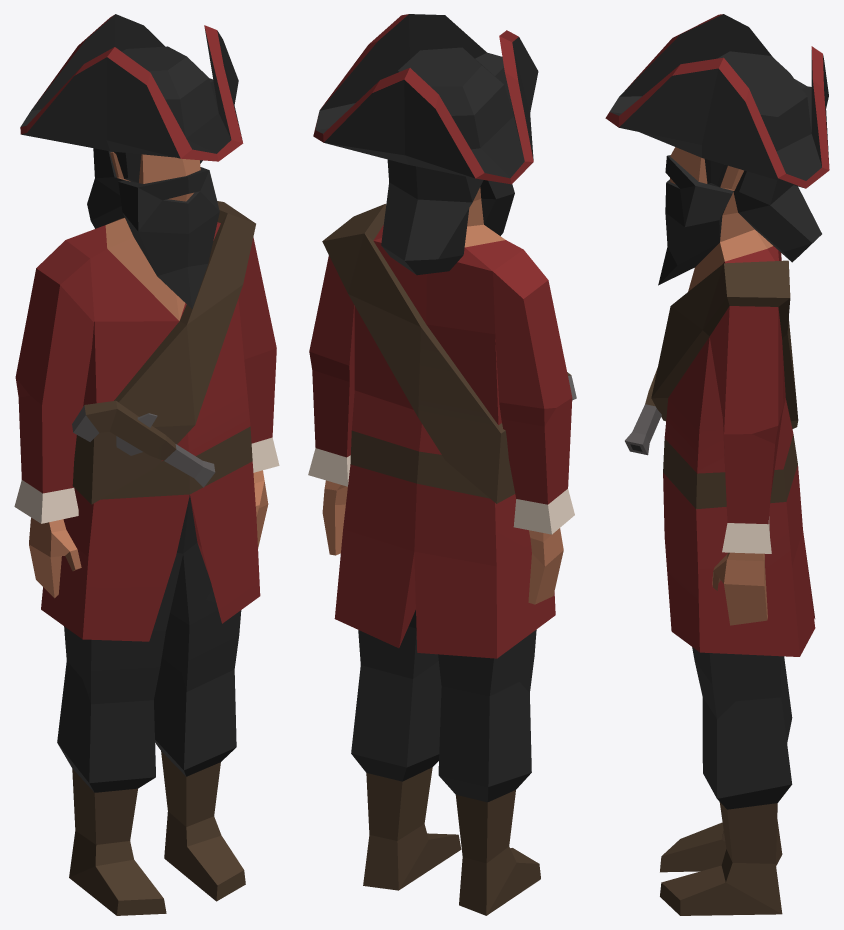
The model's file is people_man-pirate-captain.fbx.
3 views of the same model, side by side, from view 1: azimuth 30°, elevation 25°; view 2: azimuth 150°, elevation 25°; view 3: azimuth 270°, elevation 25° (orthographic).
Parts seen in each view (by area): view 1: people_man_pirate_captain; view 2: people_man_pirate_captain; view 3: people_man_pirate_captain.
Part boxes in pixels (box(x1,y1,x2,y2)): people_man_pirate_captain: box(14, 14, 279, 915); people_man_pirate_captain: box(308, 14, 576, 915); people_man_pirate_captain: box(605, 14, 829, 915).
Bounding box in the file's own units: 59.74 × 200 × 47.85.
